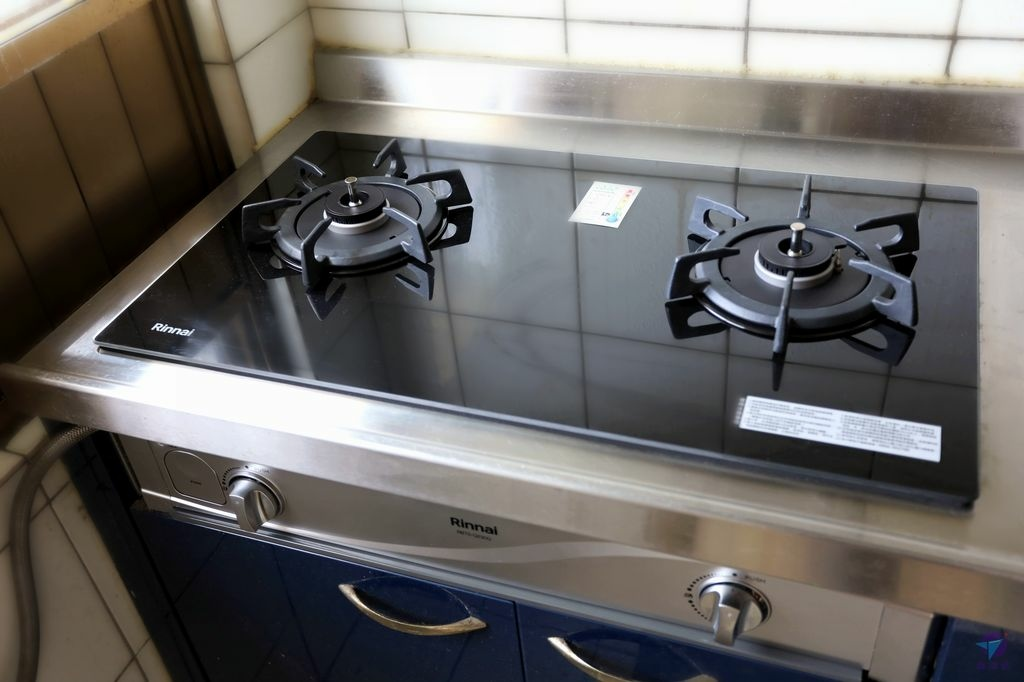gasoven: (16, 69, 1024, 661)
